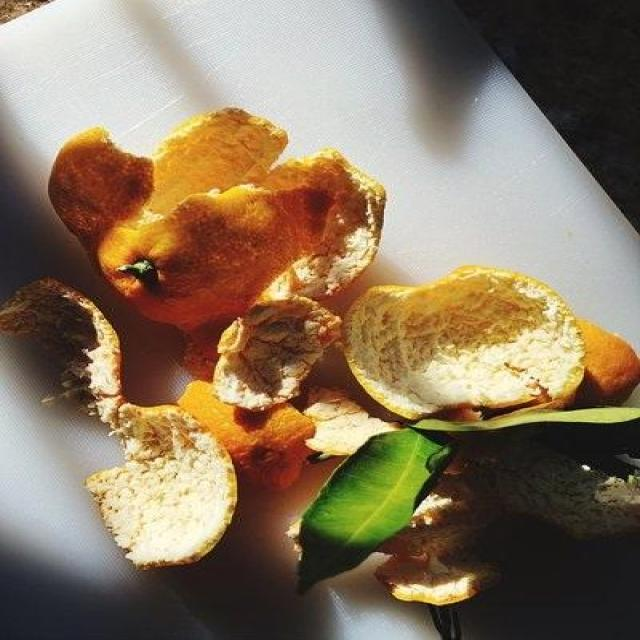Wet Waste: (0, 102, 638, 638)
